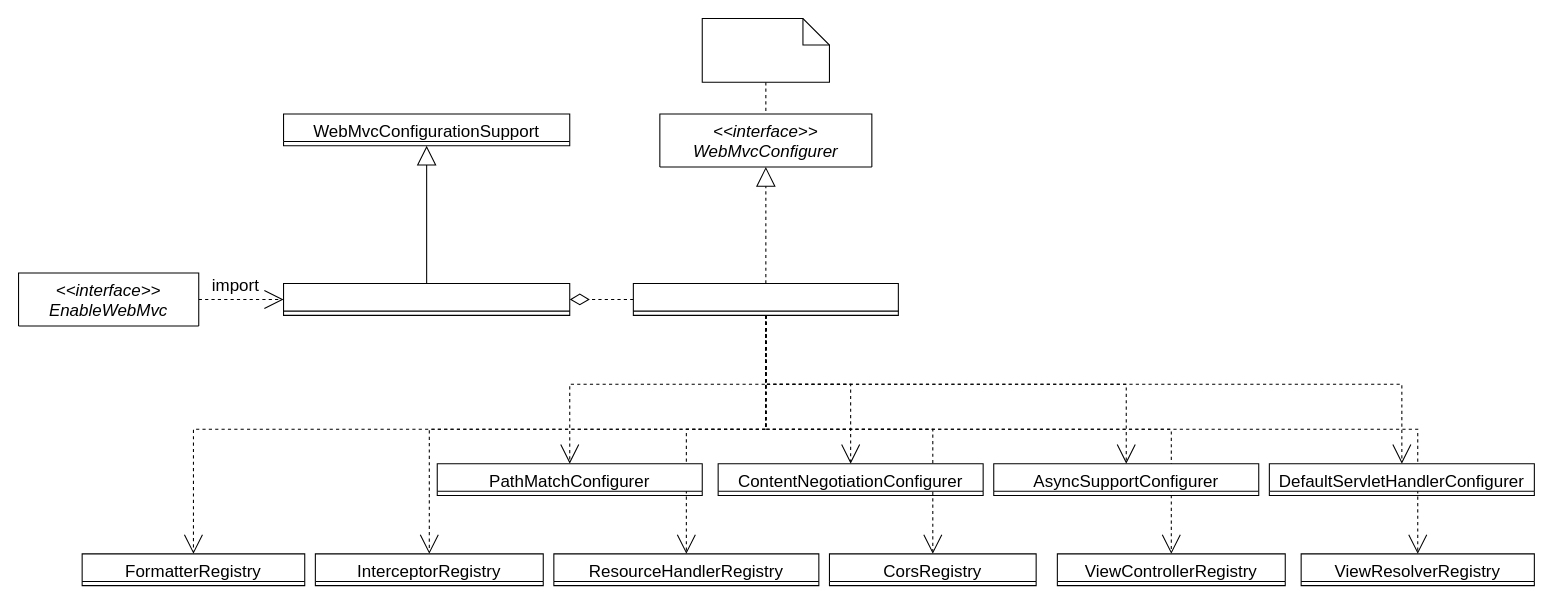
Image size: 1553x604. Some labels were removed from this diagram. Each missing label, with the centre of its shape:
"Autowired" belongs at point (765, 49).
"DelegatingWebMvcConfiguration" belongs at point (426, 298).
"WebMvcConfigurerComposite" belongs at point (765, 298).
